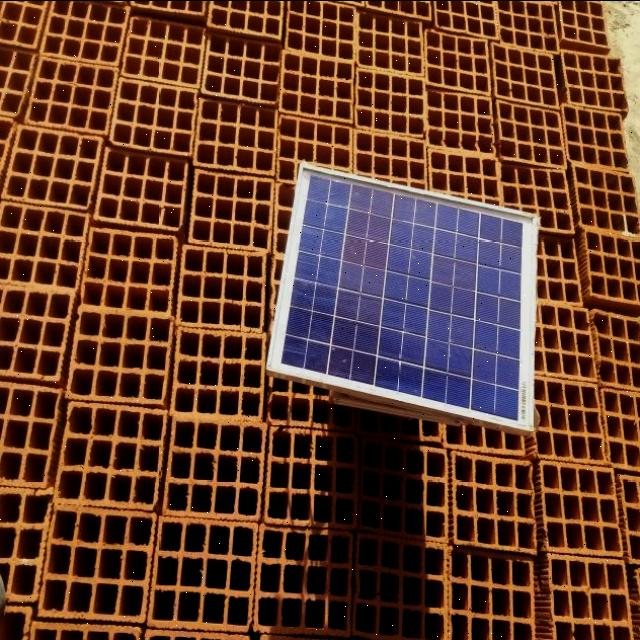Normal Solar Panel: (266, 162, 536, 428)
